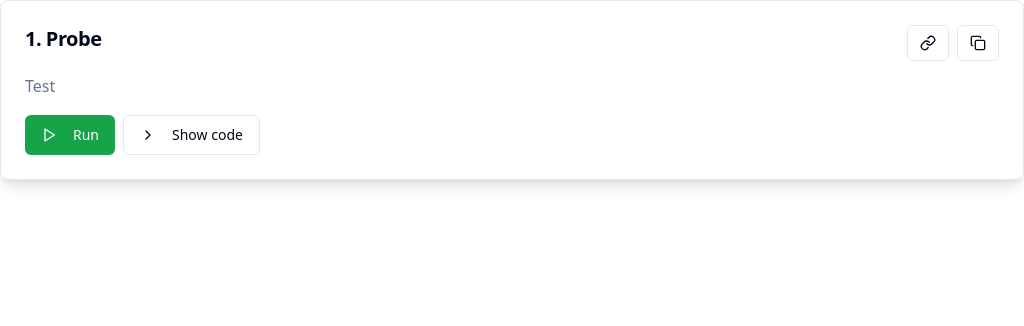
Test: snippet cards › reports a failure after logging as failed
Click the button "Run". click: [70, 135]
box: top-left (25, 115), bottom-right (115, 155)
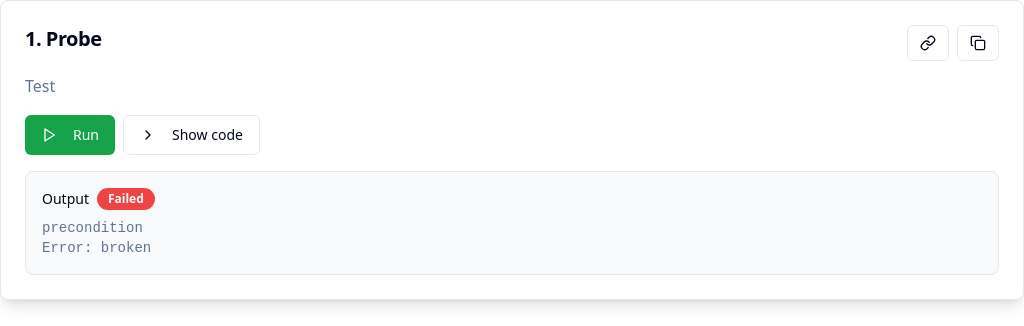
Result: the text "Failed" is shown at top-left (97, 188), bottom-right (155, 210)
Result: the text "precondition Error: broken" is shown at top-left (42, 220), bottom-right (151, 256)
